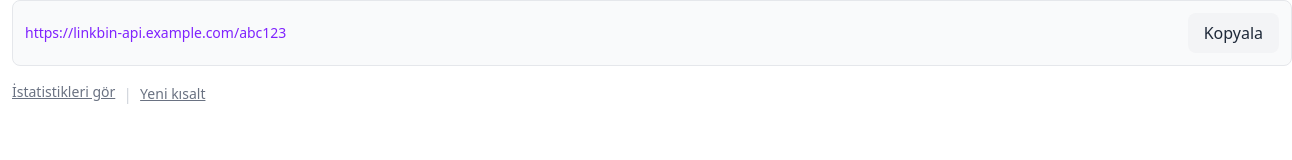
Test: ShortenResult › kopyalandıktan sonra buton metni değişir
Click the button "Kopyala".
click(1233, 33)  # box x1=1188 y1=13 x2=1279 y2=53
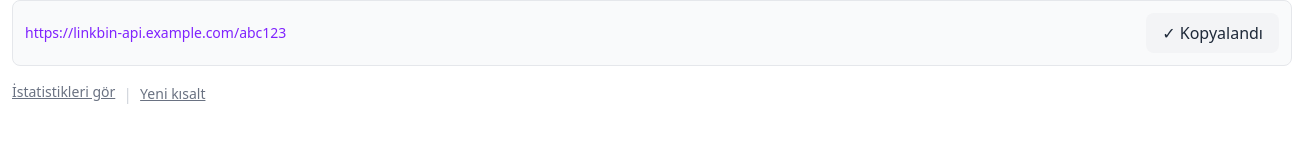
Expected: the button "✓ Kopyalandı" is shown, x1=1146 y1=13 x2=1279 y2=53
